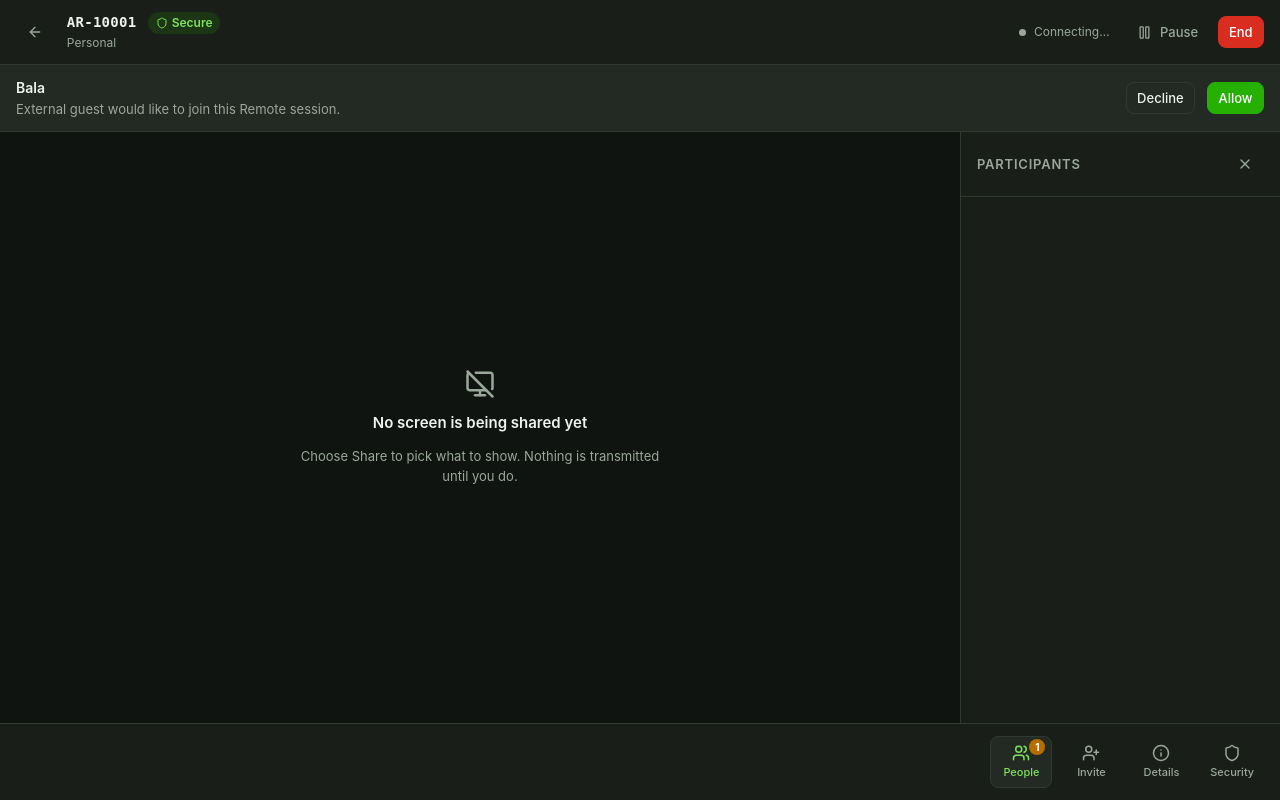
Test: the room header › says so when admitting somebody from the queue failed
The image size is (1280, 800).
Click the button "Allow" at (1236,98), box x1=1207 y1=82 x2=1264 y2=114
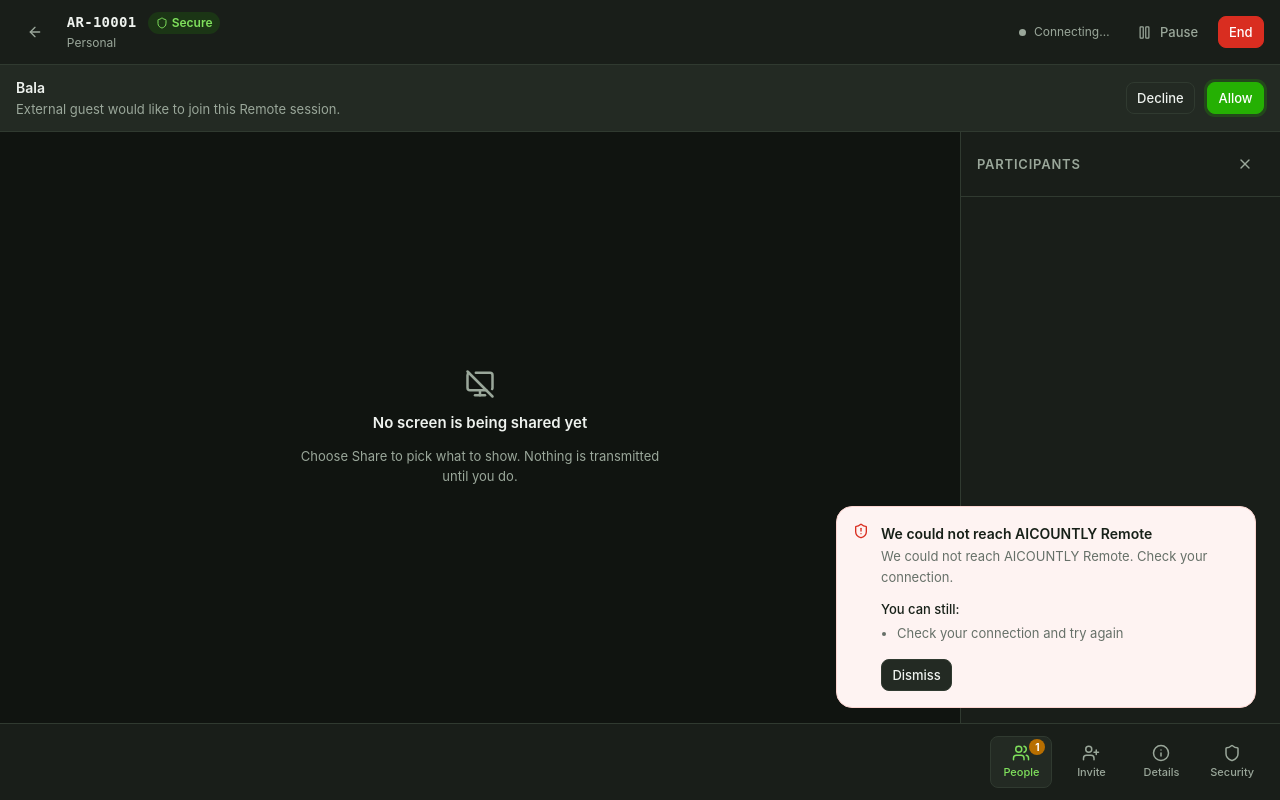
expect the text "We could not reach AICOUNTLY Remote. Check your connection." is shown: met, box x1=881 y1=546 x2=1239 y2=587
